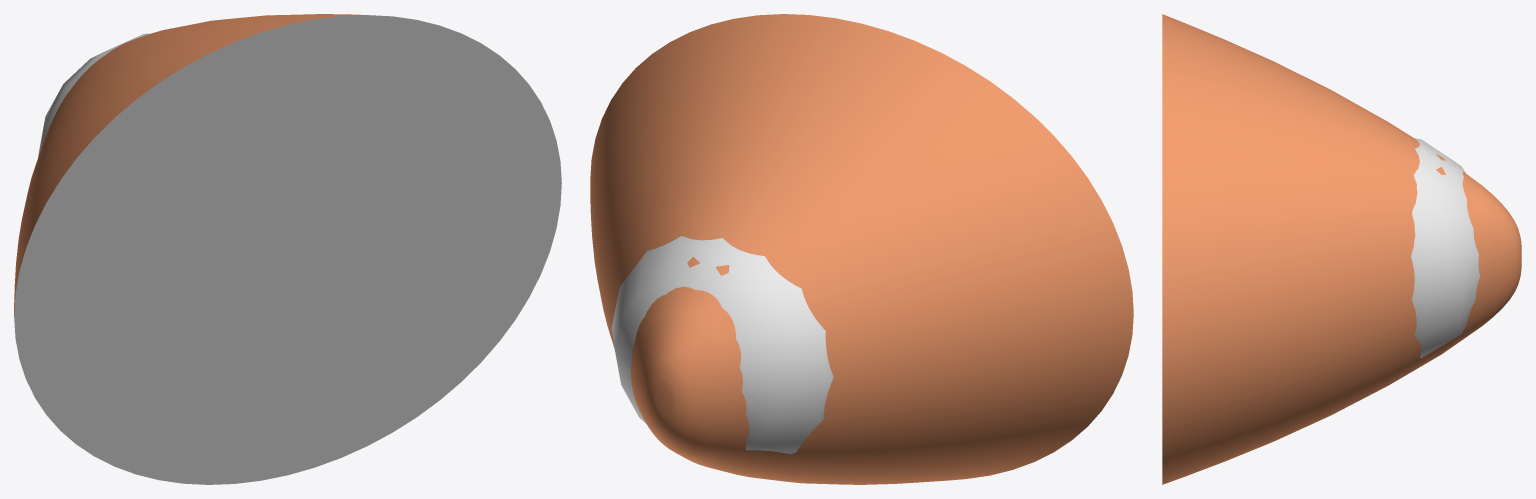
File: laser_turret.fbx
3 views of the same model, side by side, from view 1: azimuth 30°, elevation 25°; view 2: azimuth 150°, elevation 25°; view 3: azimuth 270°, elevation 25° (orthographic). The views are drawn at different scales.
Visible parts, largest first — view 1: laser_turret, laser_turret_shape; view 2: laser_turret, laser_turret_shape; view 3: laser_turret, laser_turret_shape.
Part boxes in pixels (x1,y1,x2,y2): laser_turret: (14, 14, 561, 484); laser_turret_shape: (38, 33, 149, 157); laser_turret: (590, 14, 1133, 484); laser_turret_shape: (611, 236, 833, 453); laser_turret: (1162, 14, 1521, 484); laser_turret_shape: (1411, 138, 1479, 358).
Size of what is drawn, in the model's own units: 2.06 by 1.62 by 1.3.
